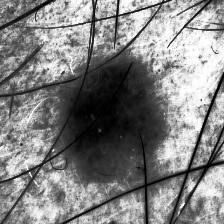Benign Marking or Mole: (68, 65, 153, 175)
